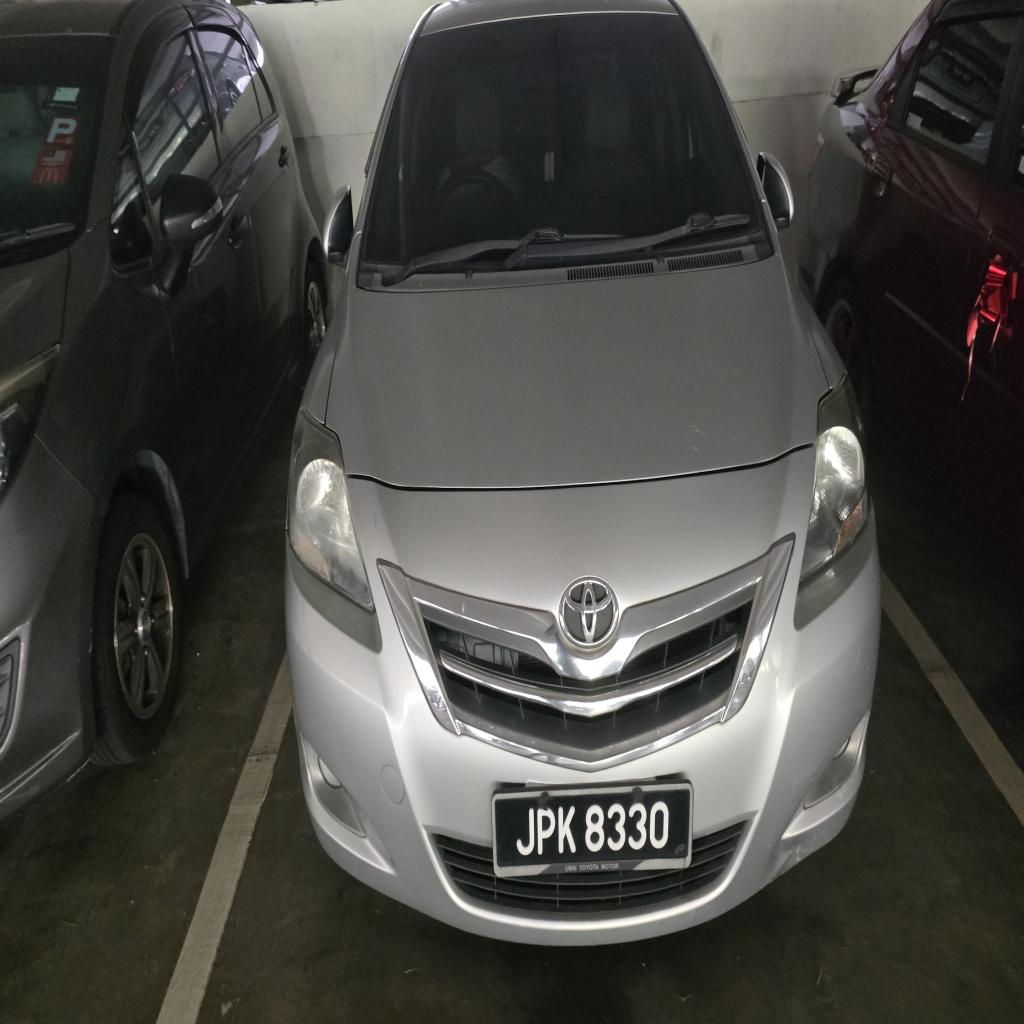car: (286, 0, 879, 943)
car plate: (493, 782, 692, 877)
